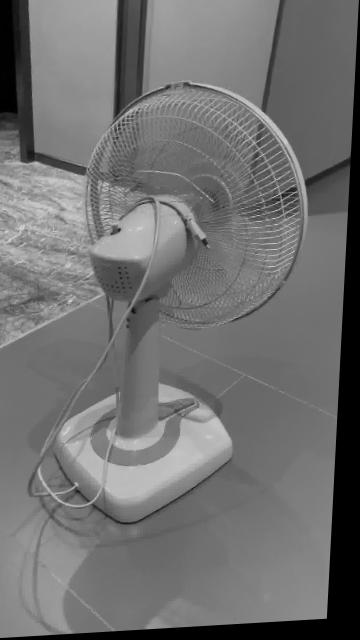Fan: (59, 86, 311, 528)
